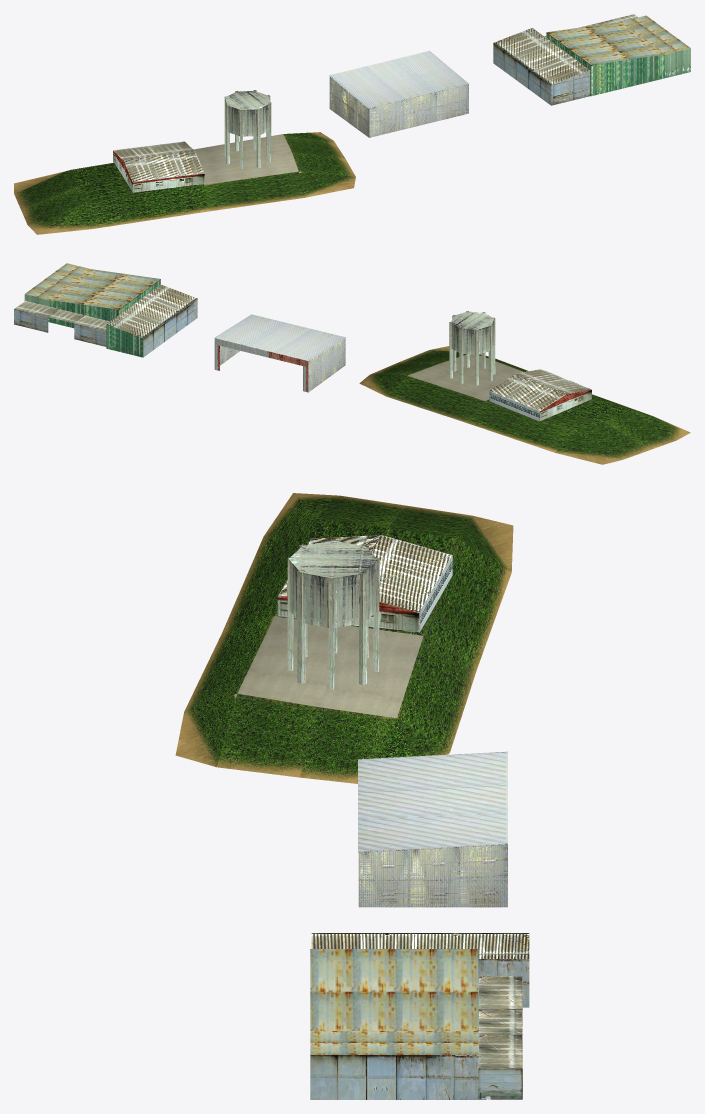
Rendered from North_hangar.dae.
3 views of the same model, one above another, from view 1: azimuth 30°, elevation 25°; view 2: azimuth 150°, elevation 25°; view 3: azimuth 270°, elevation 25° (orthographic). The views are drawn at different scales.
Parts seen in each view (by area): view 1: node3, node2; view 2: node3, node2; view 3: node3, node2.
Part boxes in pixels (left/top/right/bottom): node3: left=113, top=14, right=690, bottom=192; node2: left=14, top=132, right=355, bottom=234; node3: left=14, top=263, right=591, bottom=421; node2: left=359, top=346, right=690, bottom=464; node3: left=277, top=535, right=529, bottom=1099; node2: left=175, top=493, right=513, bottom=783.
Size of the model in its own units: 145 by 15.55 by 35.78.
Materials: 2 (2 with a texture image).
